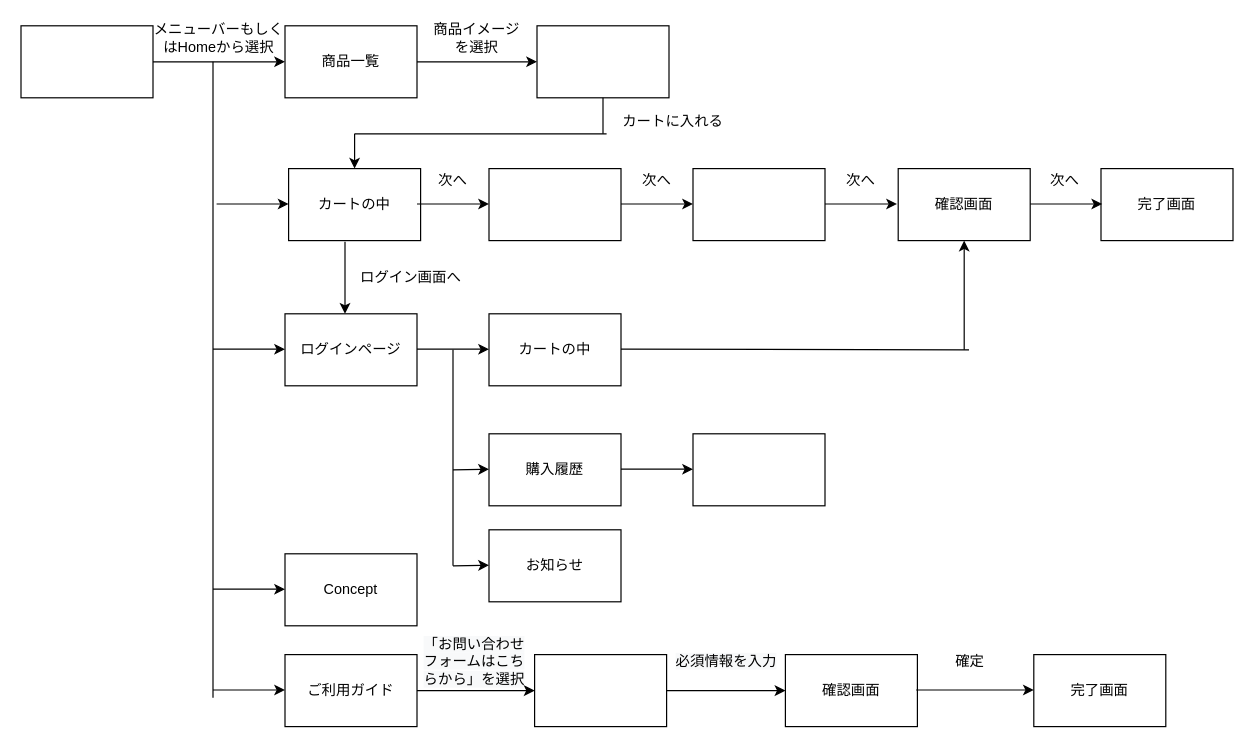
Image size: 1254x748. Some labels were removed from this diagram. The shapes that lost their labels are listed below. From the top down, each one's centre as x and y in pixels, then its label:
At (86,61): "Home".
At (602,61): "商品イメージ（フライパン、ディープフライパン等）".
At (554,204): "お客様情報入力画面".
At (758,204): "発送・支払い方法".
At (758,469): "レビューを書く".
At (600,690): "お問い合わせ".
